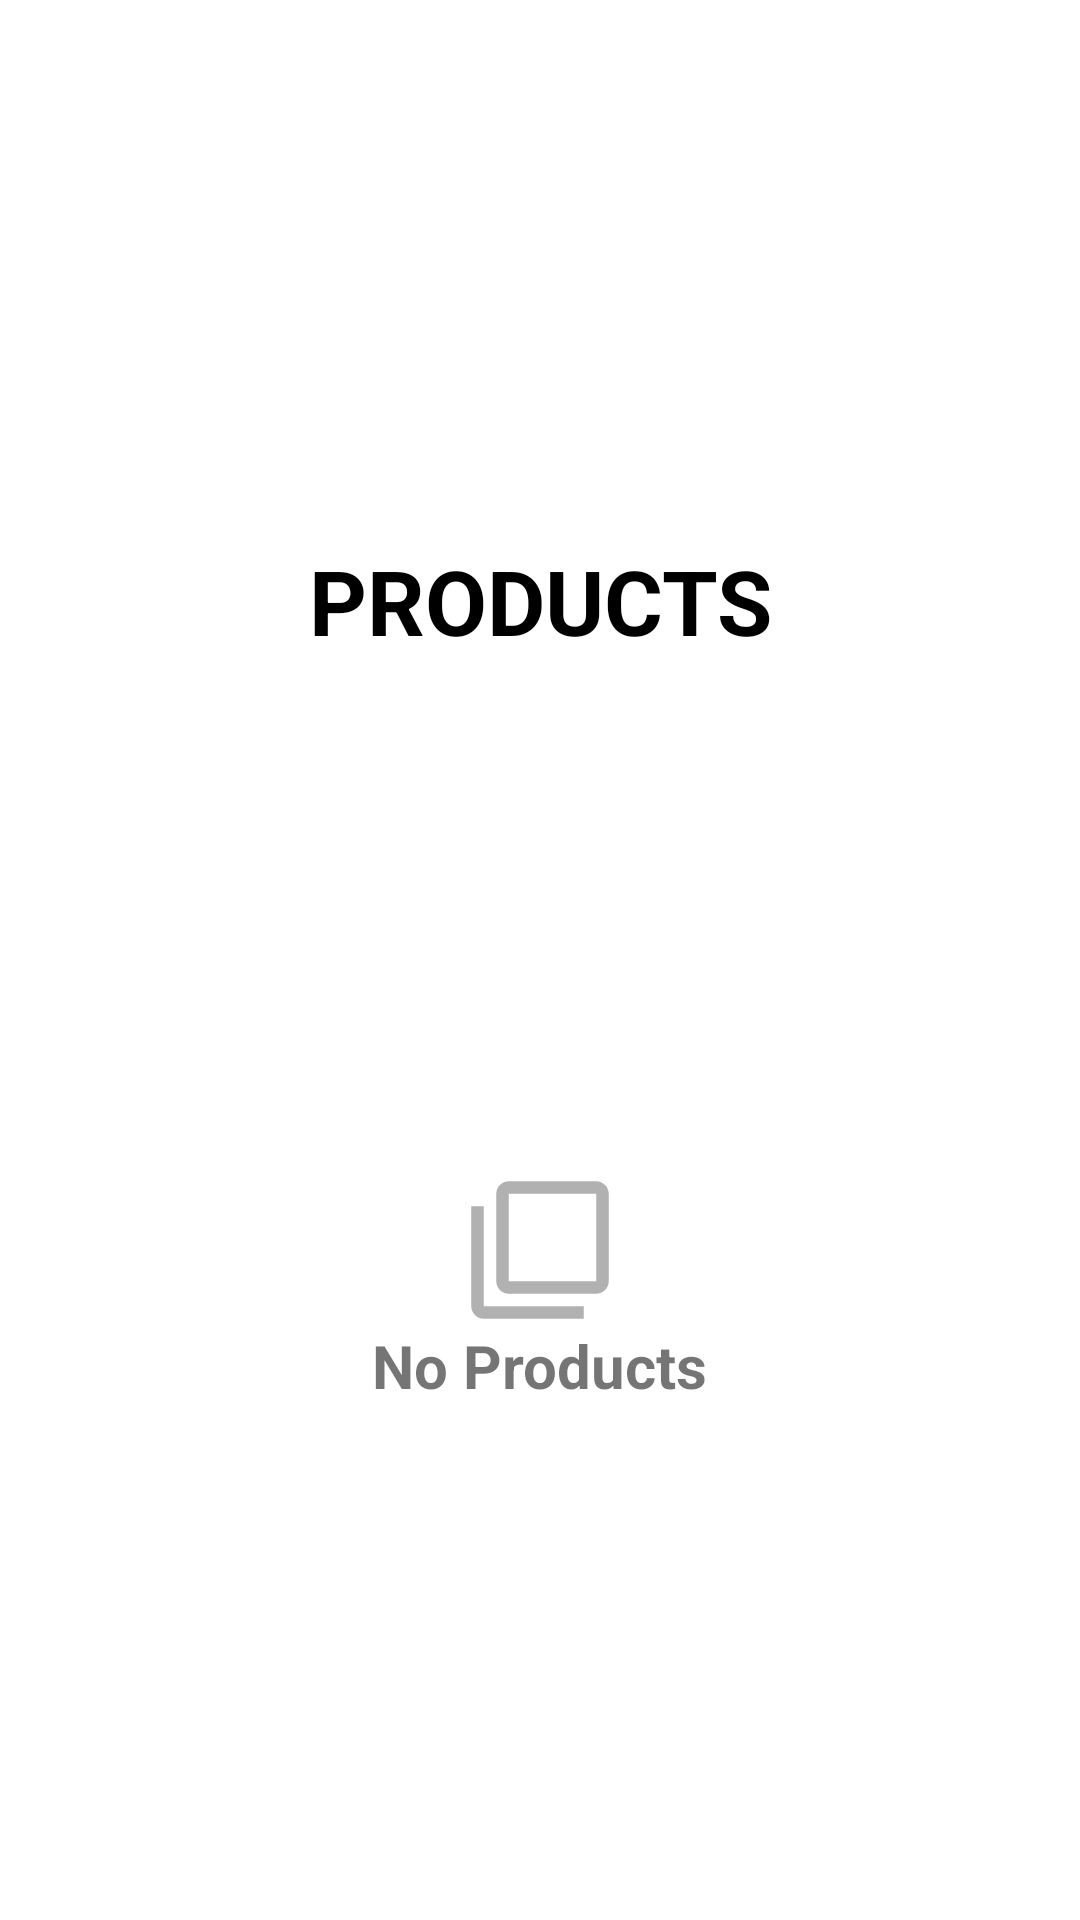

Icon click points for this 1080w x 1920h phone screenshot, format (x,y):
filter none: (540,1250)
